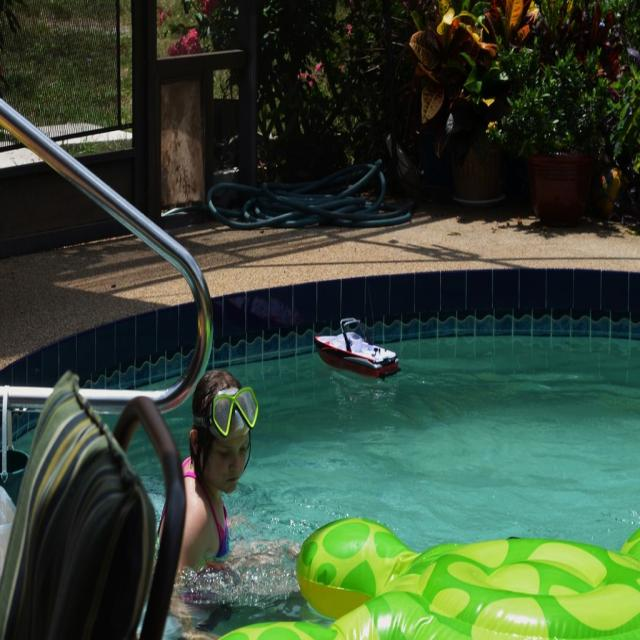Boat: (316, 318, 408, 384)
